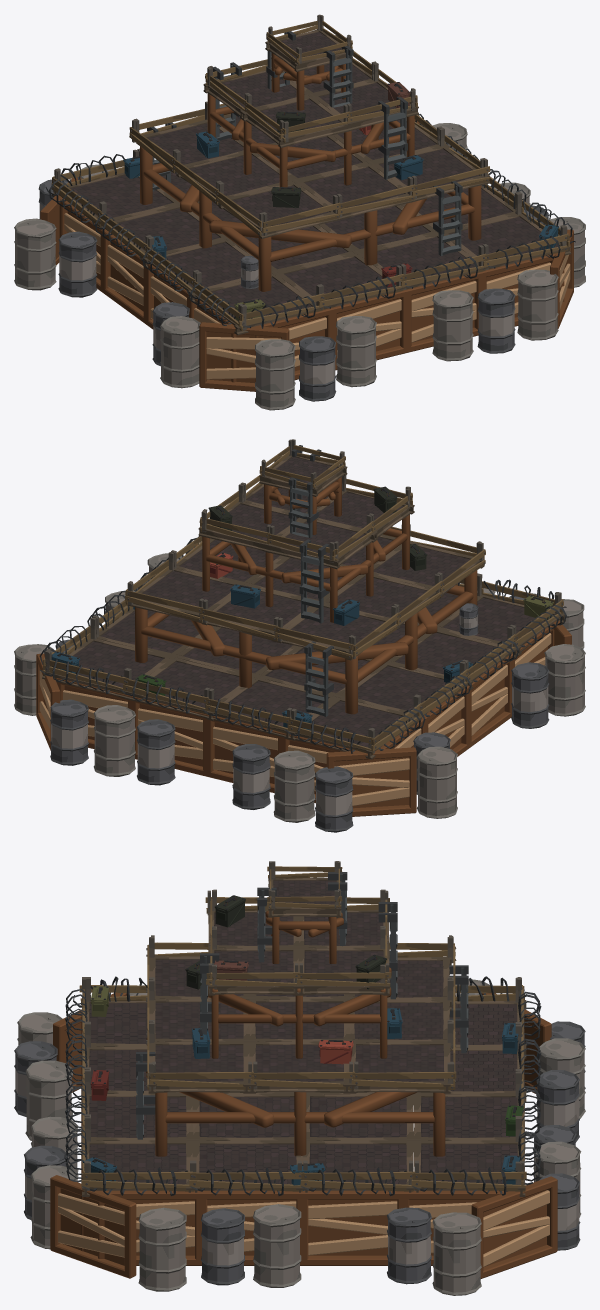
The model's file is BaseSeperatedParts.fbx.
The picture shows the model from 3 angles, top to bottom: view 1: azimuth 30°, elevation 25°; view 2: azimuth 150°, elevation 25°; view 3: azimuth 270°, elevation 25°; orthographic projection. The views are drawn at different scales.
Parts seen in each view (by area): view 1: Wood.007, SM_Bld_IndustrialWalkway_x1_01.075, Wood.010, SM_Prop_Barrel_01.012, SM_Prop_Barrel_01.018, SM_Prop_Barrel_01.019, SM_Bld_IndustrialWalkway_x1_01.062, SM_Prop_Barrel_01.016, SM_Prop_Barrel_01.017, SM_Bld_IndustrialWalkway_x1_01.085, SM_Prop_Barrel_01.011, Wood.039 (+74 smaller); view 2: Wood.005, SM_Bld_IndustrialWalkway_x1_01.083, SM_Bld_IndustrialWalkway_x1_01.081, Wood.003, SM_Bld_IndustrialWalkway_x1_01.089, Wood.002, SM_Prop_Barrel_01.014, SM_Prop_Barrel_01.013, SM_Bld_IndustrialWalkway_x1_01.084, SM_Prop_Barrel_01.012, SM_Bld_IndustrialWalkway_x1_01.082, Wood.038 (+72 smaller); view 3: Wood.033, Wood.036, Wood.006, SM_Bld_IndustrialWalkway_x1_01.083, SM_Prop_Barrel_01.015, SM_Prop_Barrel_01.021, SM_Bld_IndustrialWalkway_x1_01.065, SM_Prop_Barrel_01.020, SM_Bld_IndustrialWalkway_x1_01.088, SM_Bld_IndustrialWalkway_x1_01.087, SM_Bld_IndustrialWalkway_x1_01.063, SM_Bld_IndustrialWalkway_x1_01.076 (+78 smaller).
Boxes of the visible parts, left/top/right/bottom form: Wood.007: left=199, top=322, right=289, bottom=391; SM_Bld_IndustrialWalkway_x1_01.075: left=272, top=252, right=406, bottom=309; Wood.010: left=331, top=290, right=408, bottom=370; SM_Prop_Barrel_01.012: left=14, top=218, right=56, bottom=290; SM_Prop_Barrel_01.018: left=432, top=290, right=473, bottom=361; SM_Prop_Barrel_01.019: left=517, top=269, right=558, bottom=340; SM_Bld_IndustrialWalkway_x1_01.062: left=294, top=162, right=415, bottom=220; SM_Prop_Barrel_01.016: left=255, top=339, right=295, bottom=410; SM_Prop_Barrel_01.017: left=336, top=316, right=376, bottom=387; SM_Bld_IndustrialWalkway_x1_01.085: left=51, top=172, right=179, bottom=225; SM_Prop_Barrel_01.011: left=160, top=316, right=200, bottom=388; Wood.039: left=103, top=229, right=146, bottom=324; Wood.005: left=326, top=747, right=416, bottom=816; SM_Bld_IndustrialWalkway_x1_01.083: left=124, top=656, right=258, bottom=718; SM_Bld_IndustrialWalkway_x1_01.081: left=338, top=661, right=462, bottom=715; Wood.003: left=132, top=697, right=207, bottom=776; SM_Bld_IndustrialWalkway_x1_01.089: left=42, top=638, right=175, bottom=699; Wood.002: left=207, top=715, right=282, bottom=792; SM_Prop_Barrel_01.014: left=93, top=705, right=135, bottom=776; SM_Prop_Barrel_01.013: left=273, top=750, right=315, bottom=822; SM_Bld_IndustrialWalkway_x1_01.084: left=207, top=675, right=339, bottom=739; SM_Prop_Barrel_01.012: left=417, top=746, right=457, bottom=818; SM_Bld_IndustrialWalkway_x1_01.082: left=386, top=629, right=516, bottom=690; Wood.038: left=467, top=654, right=513, bottom=747; Wood.033: left=303, top=1190, right=404, bottom=1265; Wood.036: left=50, top=1175, right=136, bottom=1278; Wood.006: left=471, top=1176, right=557, bottom=1278; SM_Bld_IndustrialWalkway_x1_01.083: left=413, top=1091, right=525, bottom=1140; SM_Prop_Barrel_01.015: left=432, top=1212, right=481, bottom=1295; SM_Prop_Barrel_01.021: left=138, top=1207, right=186, bottom=1291; SM_Bld_IndustrialWalkway_x1_01.065: left=349, top=1040, right=450, bottom=1093; SM_Prop_Barrel_01.020: left=253, top=1204, right=301, bottom=1287; SM_Bld_IndustrialWalkway_x1_01.088: left=302, top=1139, right=413, bottom=1192; SM_Bld_IndustrialWalkway_x1_01.087: left=192, top=1139, right=303, bottom=1192; SM_Bld_IndustrialWalkway_x1_01.063: left=148, top=1040, right=250, bottom=1093; SM_Bld_IndustrialWalkway_x1_01.076: left=82, top=1091, right=193, bottom=1140.
Size of the model in its own units: 17.78 by 9.66 by 16.98.
3 materials, 1 textured.
